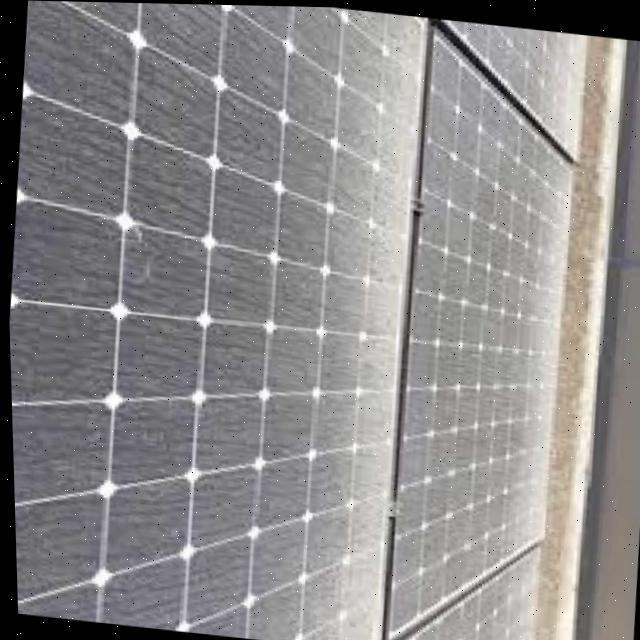Anomaly Solar Panel: (7, 0, 587, 640)
Surface Contaminant: (7, 0, 587, 640)
